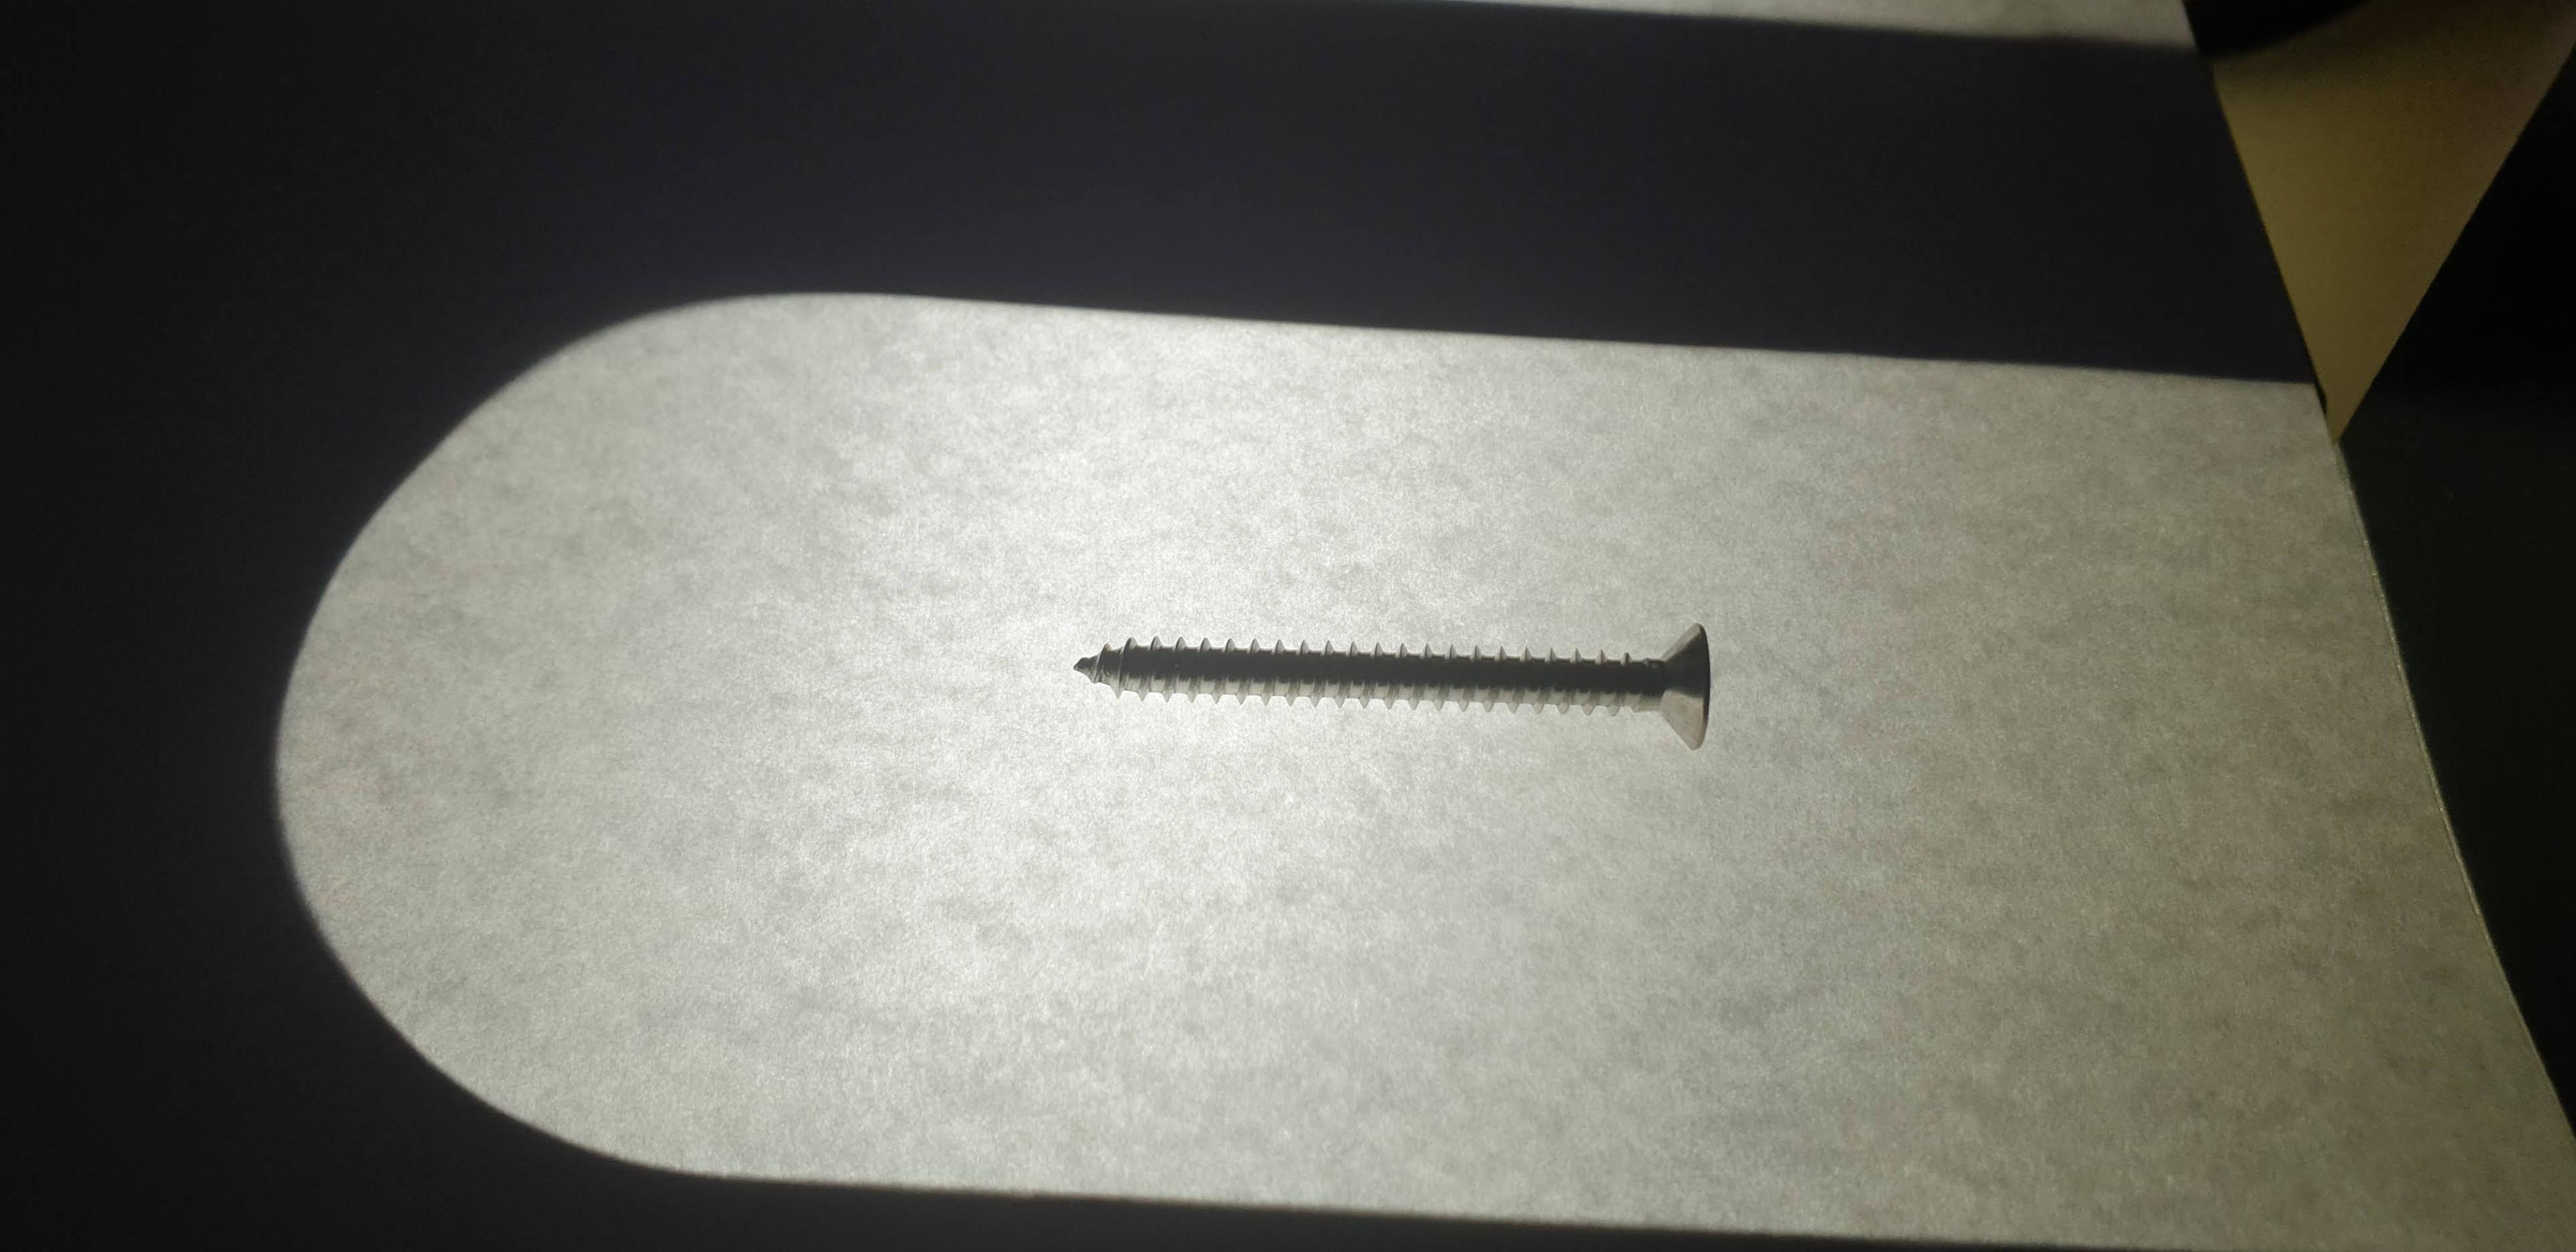S001: (1007, 577, 1794, 790)
